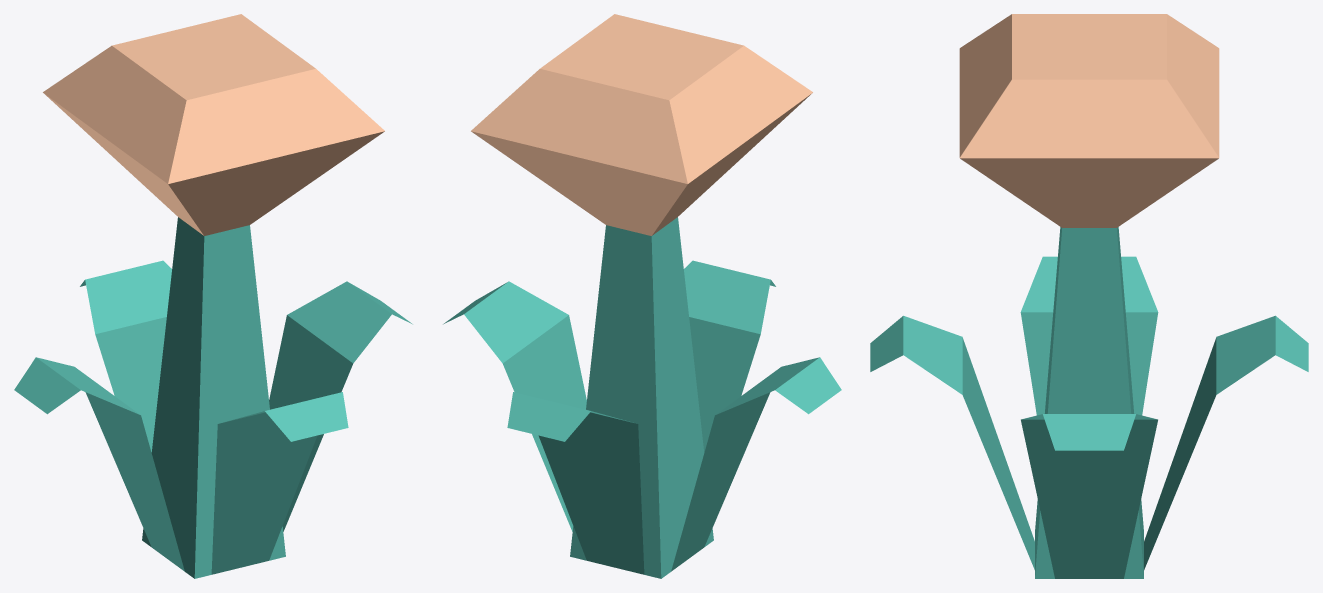
The model's file is flower_beige2.fbx.
The picture shows the model from 3 angles, left to right: view 1: azimuth 30°, elevation 25°; view 2: azimuth 150°, elevation 25°; view 3: azimuth 270°, elevation 25°; orthographic projection. The views are drawn at different scales.
Visible parts, largest first — view 1: flower_beige2; view 2: flower_beige2; view 3: flower_beige2.
Boxes of the visible parts, <box> form: flower_beige2: <box>14,14,412,578</box>; flower_beige2: <box>443,14,841,578</box>; flower_beige2: <box>870,14,1308,578</box>.
Size of the model in its own units: 1.71 by 2.2 by 1.71.
